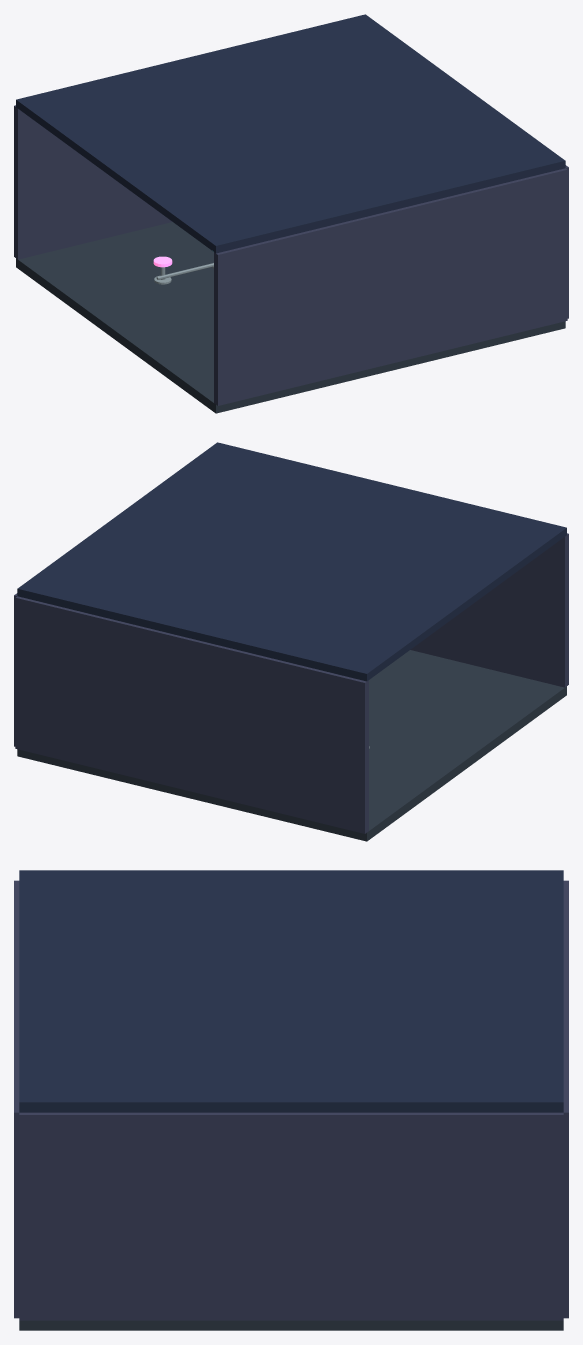
Rendered from wing-aquarium.glb.
The picture shows the model from 3 angles, top to bottom: view 1: azimuth 30°, elevation 25°; view 2: azimuth 150°, elevation 25°; view 3: azimuth 270°, elevation 25°; orthographic projection. The views are drawn at different scales.
Parts seen in each view (by area): view 1: Wing ceiling, Wing wall north, Wing floor, Wing wall south; view 2: Wing ceiling, Wing wall south, Wing floor, Wing wall north; view 3: Wing ceiling, Wing wall west, Wing floor, Wing wall north, Wing wall south.
Boxes of the visible parts, box(x1,y1,x2,y2) form: Wing ceiling: box(16, 14, 565, 253); Wing wall north: box(214, 168, 567, 405); Wing floor: box(16, 222, 565, 413); Wing wall south: box(14, 105, 172, 259); Wing ceiling: box(17, 442, 566, 681); Wing wall south: box(15, 596, 368, 833); Wing floor: box(17, 650, 566, 841); Wing wall north: box(410, 533, 568, 687); Wing ceiling: box(19, 870, 563, 1112); Wing wall west: box(19, 1112, 563, 1320); Wing floor: box(19, 1320, 563, 1330); Wing wall north: box(14, 880, 19, 1318); Wing wall south: box(563, 880, 568, 1318).
Bounding box in the file's own units: 12.23 × 5.55 × 12.24.
